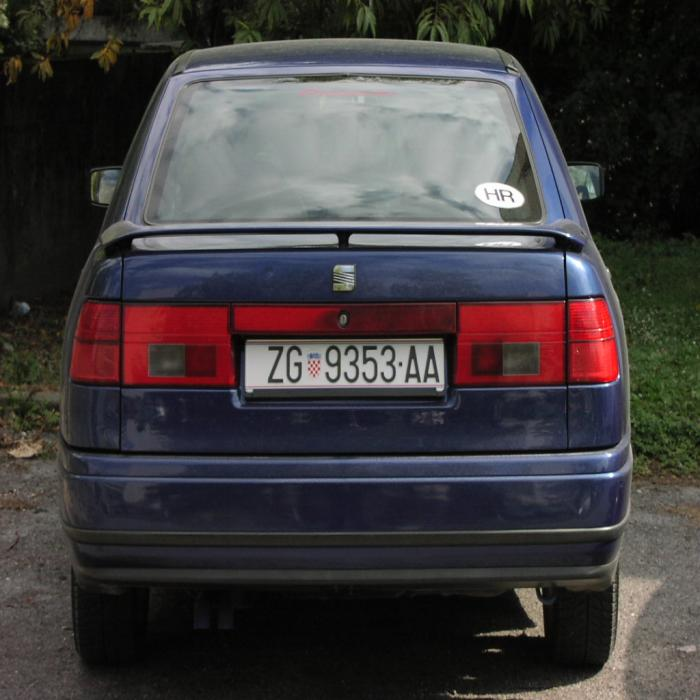number_plate: (244, 340, 447, 386)
